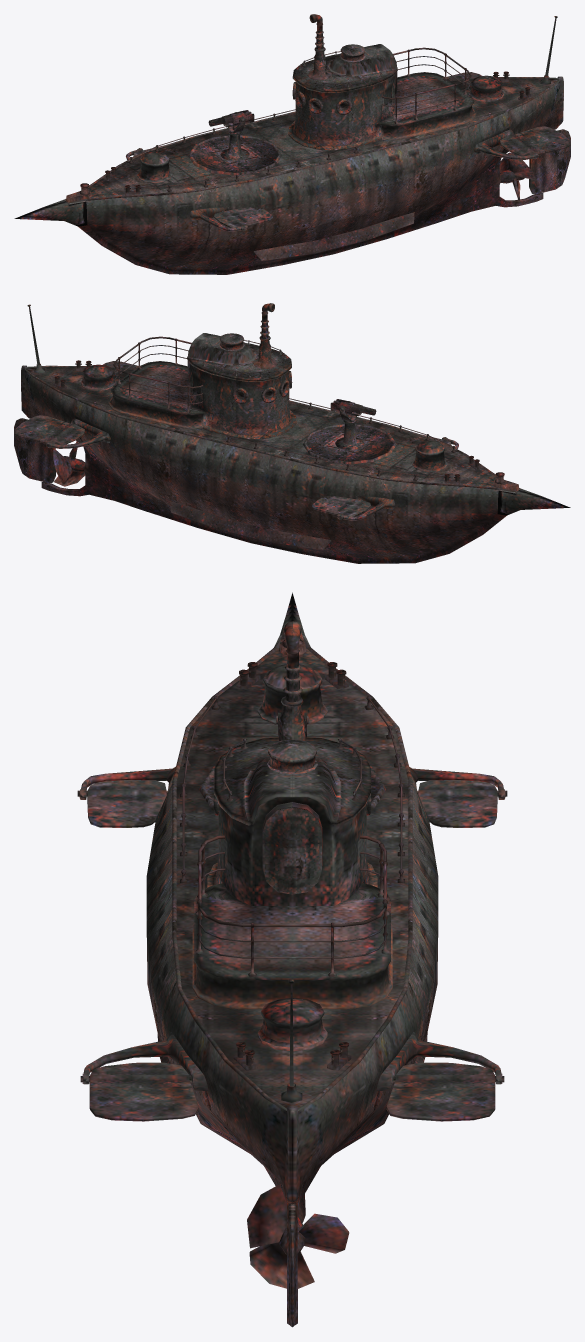
Rendered from submarine.obj.
3 views of the same model, one above another, from view 1: azimuth 30°, elevation 25°; view 2: azimuth 150°, elevation 25°; view 3: azimuth 270°, elevation 25° (orthographic). The views are drawn at different scales.
Visible parts, largest first — view 1: Cylinder09; view 2: Cylinder09; view 3: Cylinder09.
Boxes of the visible parts, bbox=[...] form: Cylinder09: bbox=[14, 14, 570, 274]; Cylinder09: bbox=[14, 303, 570, 563]; Cylinder09: bbox=[77, 592, 507, 1327].
Size of the model in its own units: 733 by 307 by 245.
